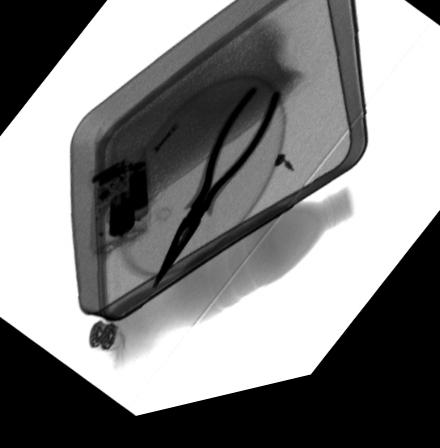Pliers: (149, 96, 281, 296)
